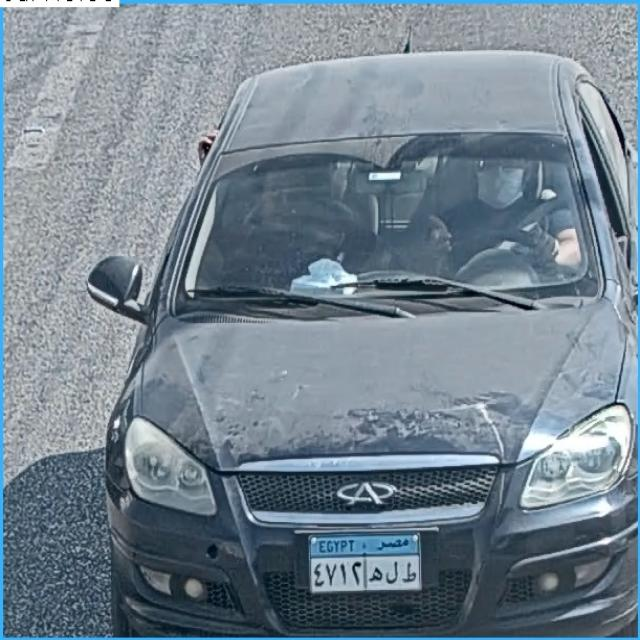windshield: (171, 146, 581, 299)
